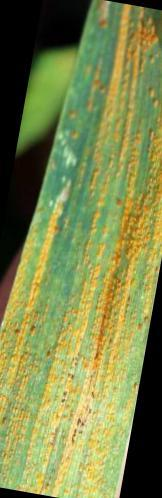Wheat: (1, 368, 122, 479), (67, 256, 149, 360), (112, 10, 162, 141), (101, 150, 162, 248)
